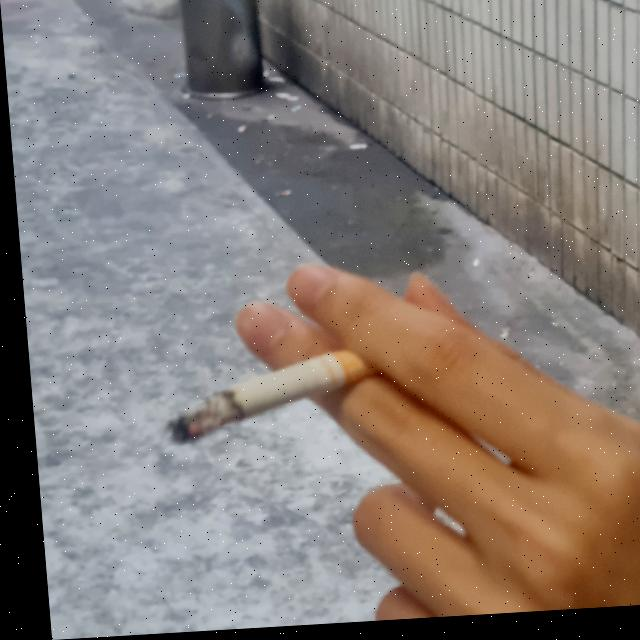cigarette: (153, 355, 372, 449)
